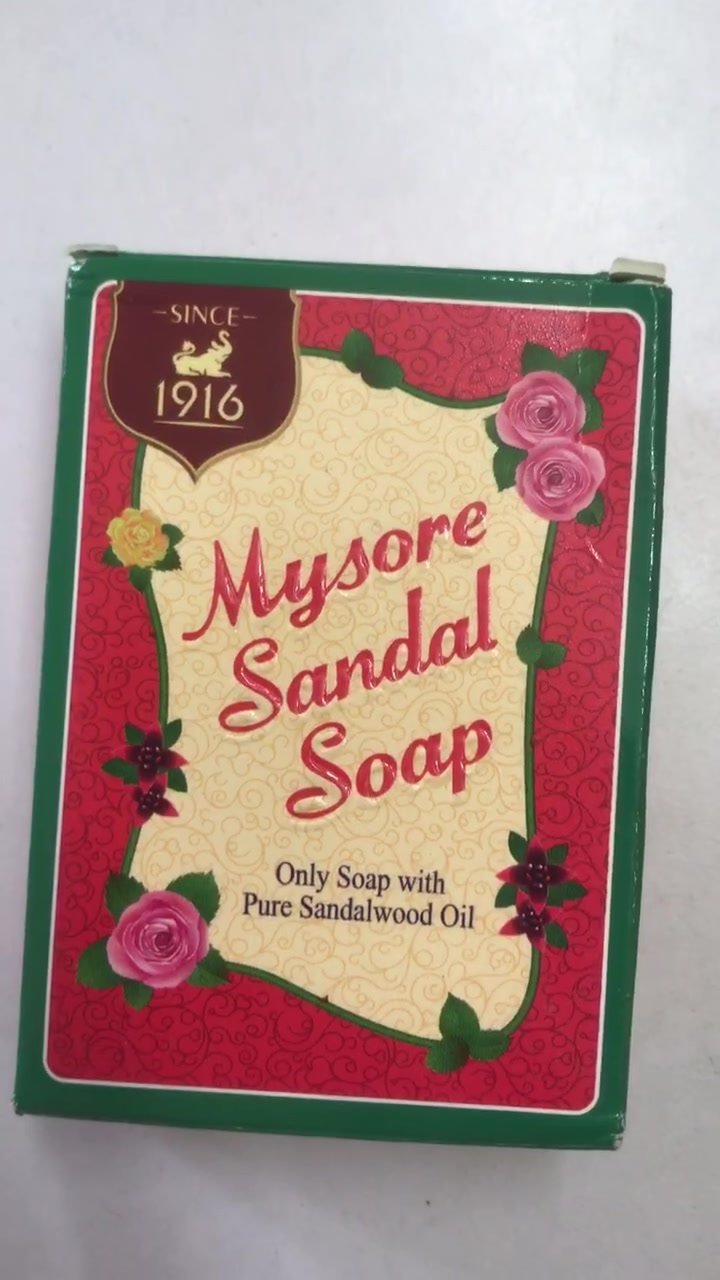mysore sandal soap: (26, 248, 663, 1139)
